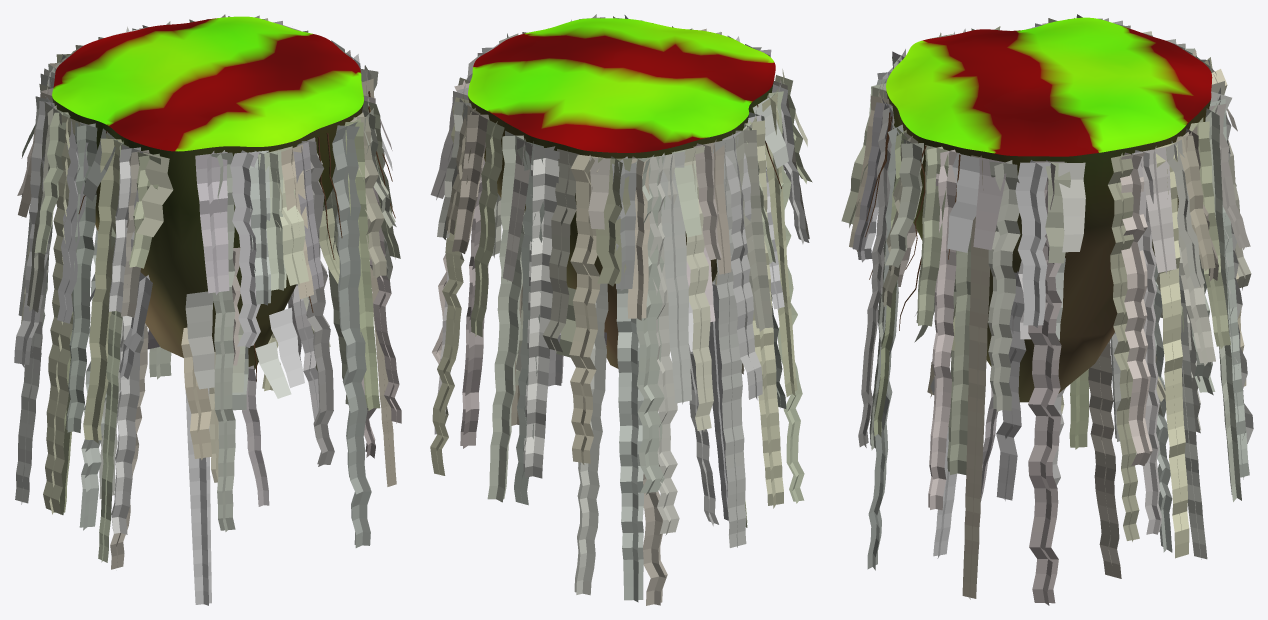
Rendered from SM_H18_Floater06.fbx.
3 renders of one model, left to right at view 1: azimuth 30°, elevation 25°; view 2: azimuth 150°, elevation 25°; view 3: azimuth 270°, elevation 25°, orthographic. The views are drawn at different scales.
Parts seen in each view (by area): view 1: SM_H18_Floater06_Ivy, SM_H18_Floater06; view 2: SM_H18_Floater06_Ivy, SM_H18_Floater06; view 3: SM_H18_Floater06_Ivy, SM_H18_Floater06.
Part boxes in pixels (bbox=[...]): SM_H18_Floater06_Ivy: bbox=[14, 14, 401, 605]; SM_H18_Floater06: bbox=[52, 16, 363, 369]; SM_H18_Floater06_Ivy: bbox=[430, 14, 812, 605]; SM_H18_Floater06: bbox=[468, 18, 775, 368]; SM_H18_Floater06_Ivy: bbox=[841, 14, 1253, 605]; SM_H18_Floater06: bbox=[886, 17, 1212, 402].
Bounding box in the file's own units: 24.14 × 35 × 24.51.
